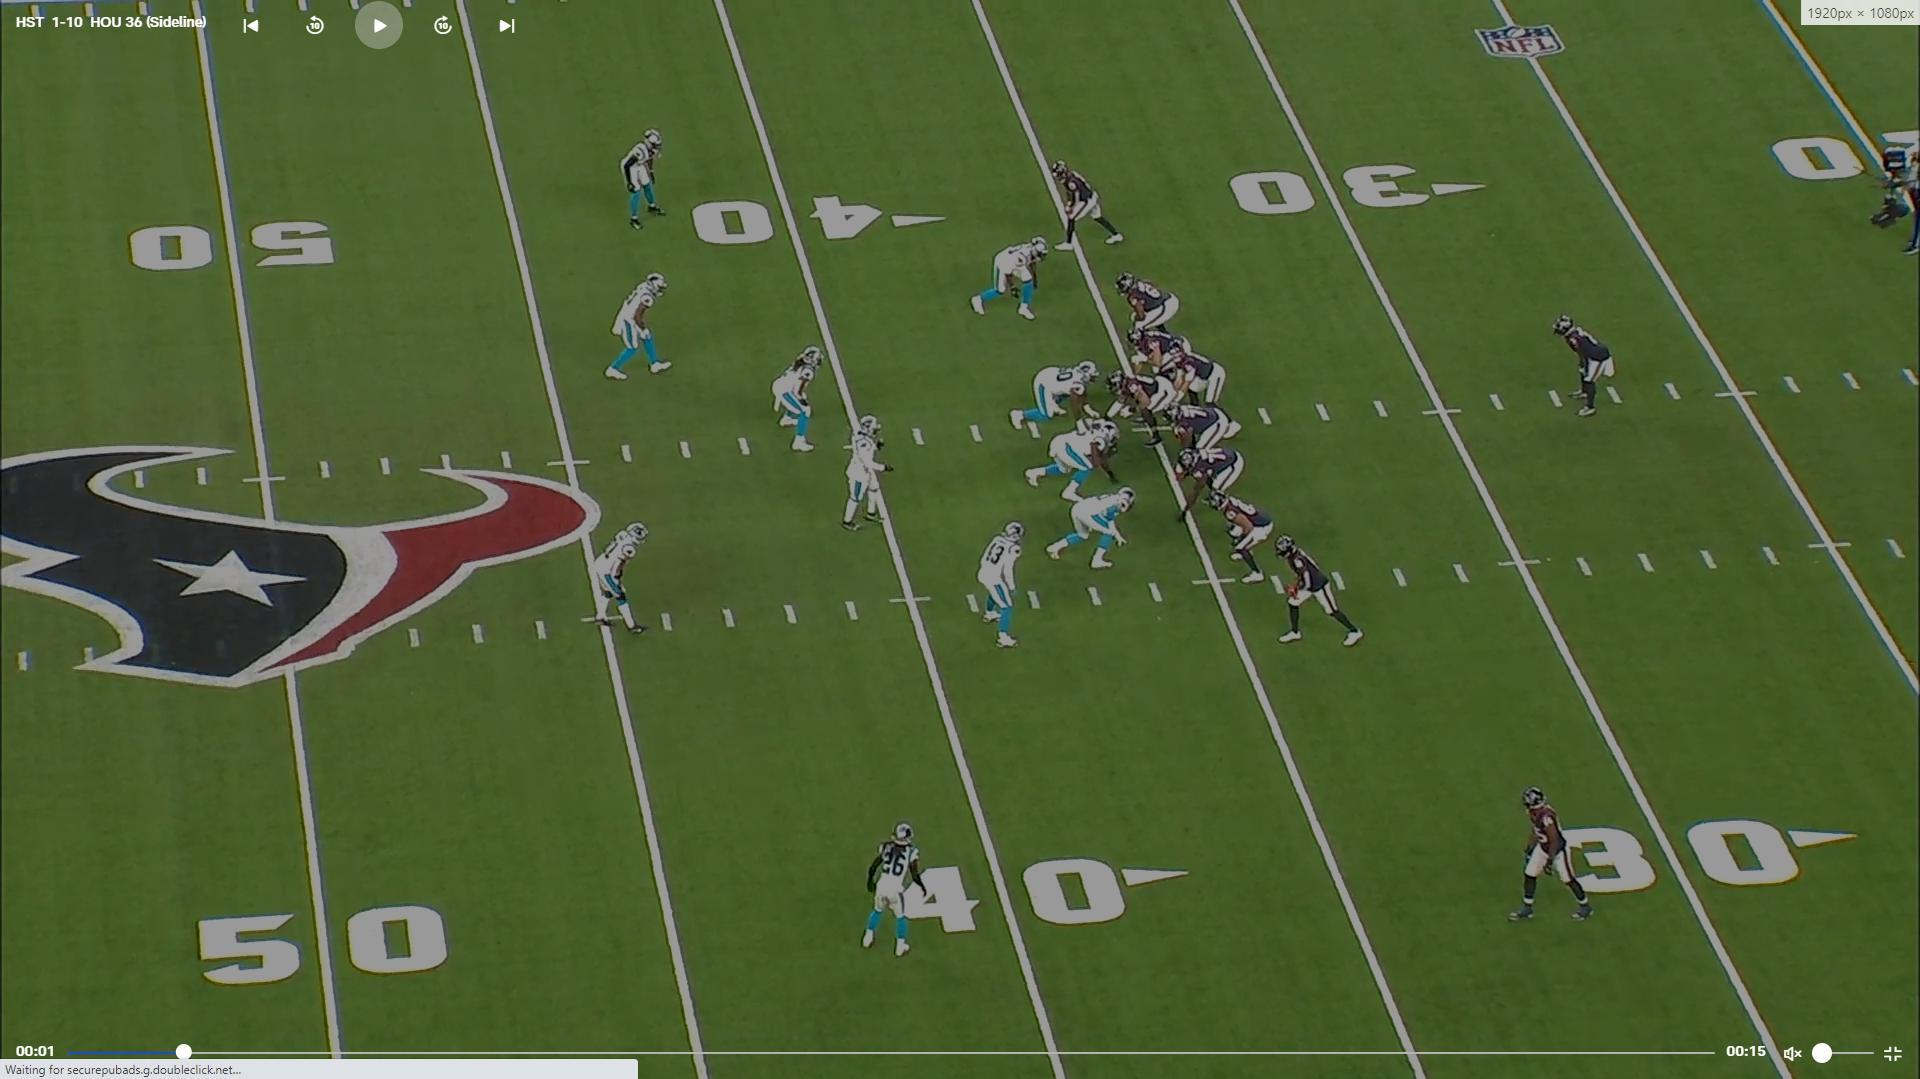defense: (855, 817, 926, 967), (1022, 417, 1122, 504), (1040, 480, 1135, 570), (607, 268, 675, 384), (969, 233, 1058, 323), (981, 522, 1039, 656), (1007, 359, 1101, 434), (840, 408, 894, 532), (597, 520, 654, 634), (775, 346, 829, 458), (621, 128, 670, 228)
oline: (1172, 443, 1246, 526), (1105, 365, 1180, 439), (1164, 402, 1236, 474), (1117, 270, 1187, 343), (1120, 323, 1187, 380)
qb: (1170, 340, 1234, 441)
ref: (1899, 139, 1920, 265)
skill: (1505, 784, 1593, 927), (1276, 533, 1371, 649), (1047, 160, 1126, 256), (1552, 313, 1619, 421), (1217, 492, 1282, 586)
